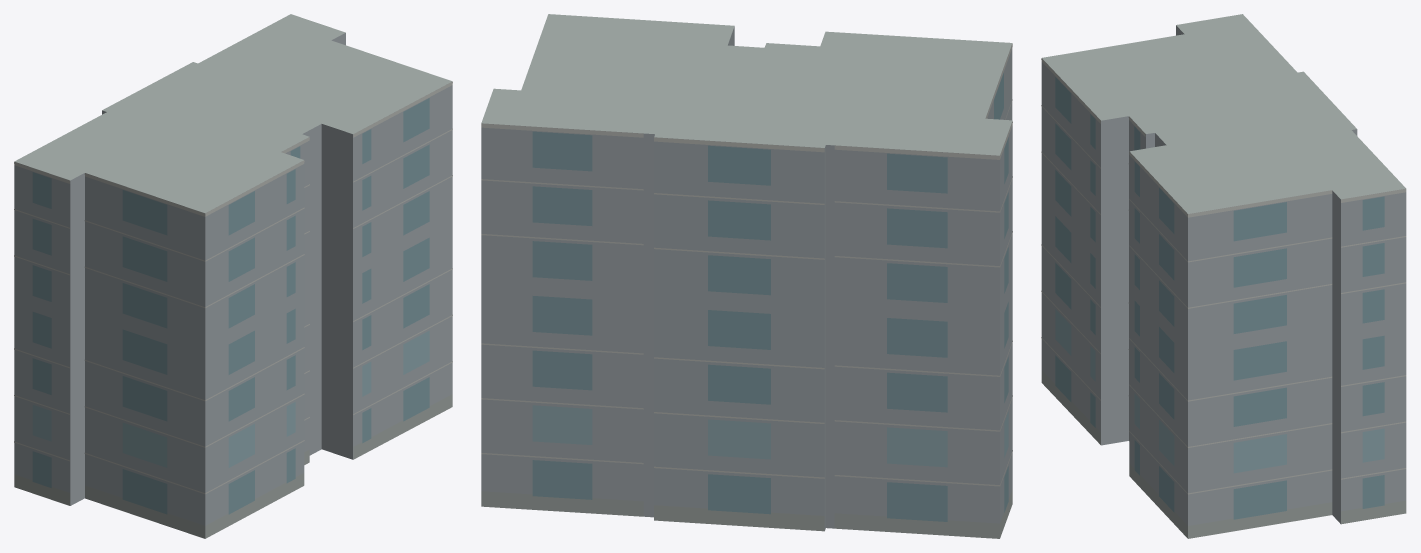
File: survey-upis-32698438.glb
The picture shows the model from 3 angles, left to right: view 1: azimuth 30°, elevation 25°; view 2: azimuth 150°, elevation 25°; view 3: azimuth 270°, elevation 25°; orthographic projection. The views are drawn at different scales.
Visible parts, largest first — view 1: survey-upis-32698438.tmp; view 2: survey-upis-32698438.tmp; view 3: survey-upis-32698438.tmp.
Part boxes in pixels (bbox=[...]): survey-upis-32698438.tmp: bbox=[14, 14, 452, 538]; survey-upis-32698438.tmp: bbox=[481, 14, 1012, 538]; survey-upis-32698438.tmp: bbox=[1041, 14, 1406, 538].
Bounding box in the file's own units: 28.7 × 21.7 × 22.11.
